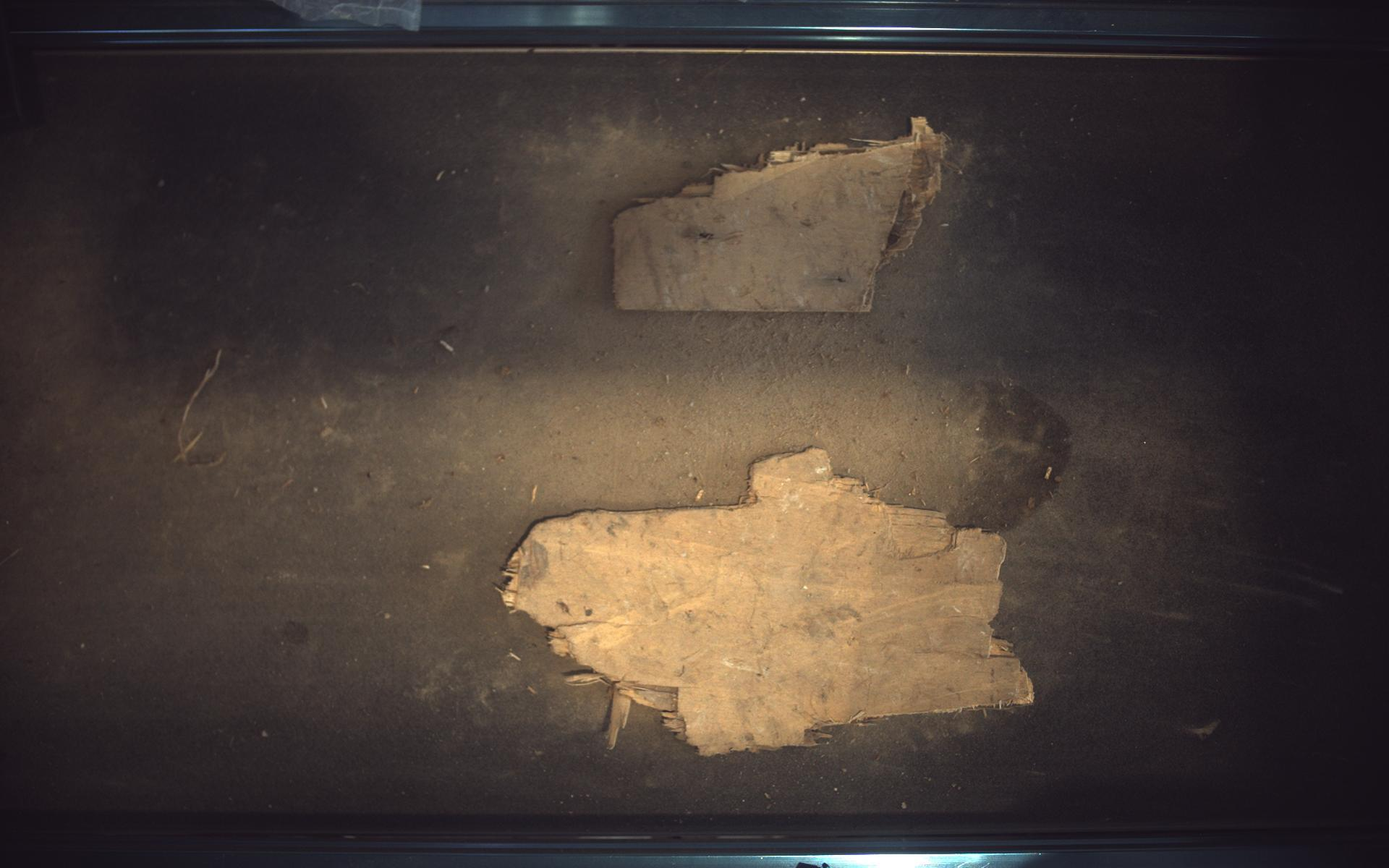wood: (501, 448, 1035, 757), (614, 116, 948, 312)
